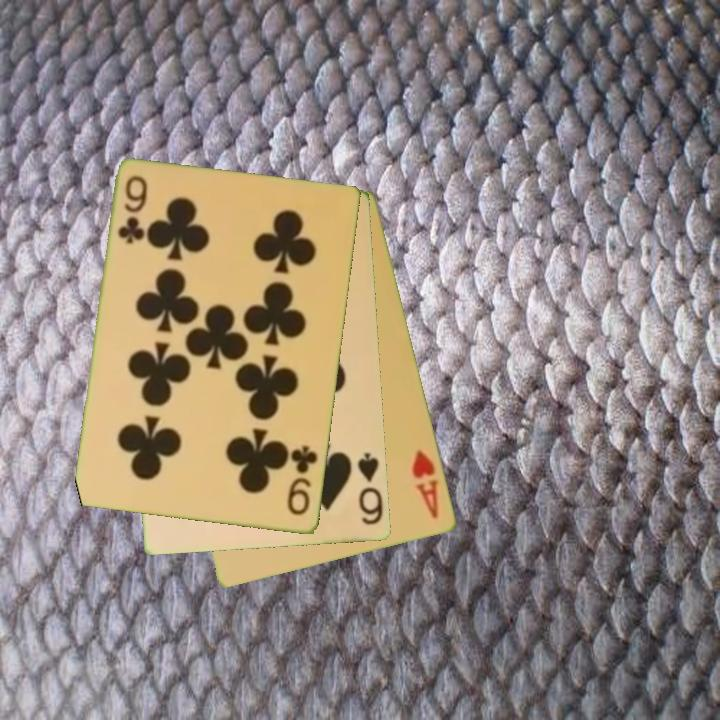6s: (354, 450, 386, 528)
9c: (284, 442, 321, 519), (115, 172, 151, 248)
Ah: (408, 446, 442, 522)
